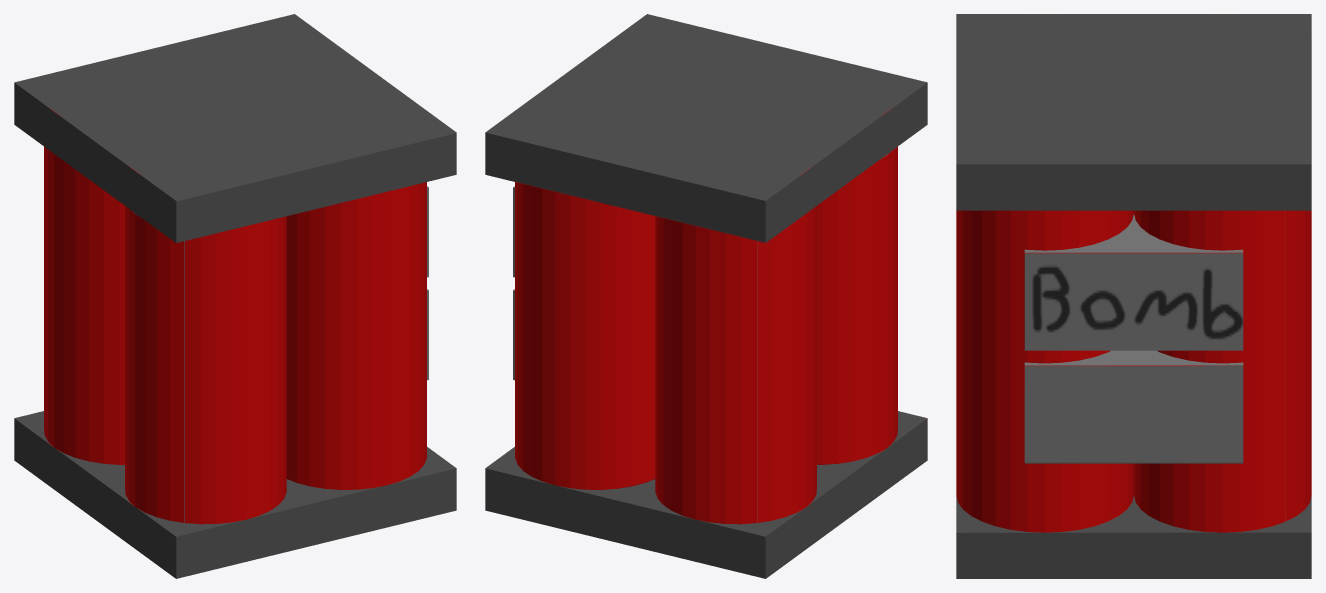
The model's file is Bomb.fbx.
3 views of the same model, side by side, from view 1: azimuth 30°, elevation 25°; view 2: azimuth 150°, elevation 25°; view 3: azimuth 270°, elevation 25° (orthographic). The views are drawn at different scales.
Parts seen in each view (by area): view 1: Cylinder; view 2: Cylinder; view 3: Cylinder.
Boxes of the visible parts, left/top/right/bottom form: Cylinder: left=14, top=14, right=456, bottom=578; Cylinder: left=485, top=14, right=927, bottom=578; Cylinder: left=956, top=14, right=1311, bottom=578.
Bounding box in the file's own units: 203 × 257 × 200.
1 material, 1 textured.
